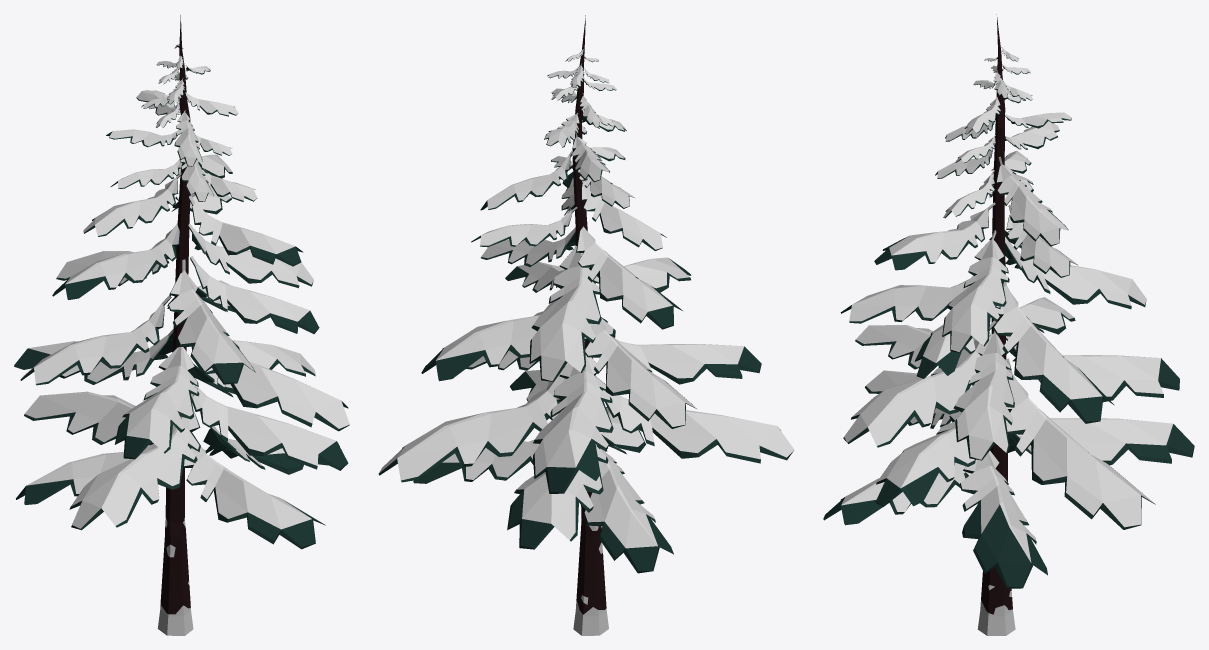
The model's file is pine_with_leavesmore.fbx.
3 views of the same model, side by side, from view 1: azimuth 30°, elevation 25°; view 2: azimuth 150°, elevation 25°; view 3: azimuth 270°, elevation 25° (orthographic).
Visible parts, largest first — view 1: tree with more leaves; view 2: tree with more leaves; view 3: tree with more leaves.
Boxes of the visible parts, x1=… form: tree with more leaves: x1=14, y1=15, x2=349, y2=635; tree with more leaves: x1=378, y1=15, x2=794, y2=635; tree with more leaves: x1=823, y1=14, x2=1194, y2=635.
Bounding box in the file's own units: 2416 × 4423 × 2410.
